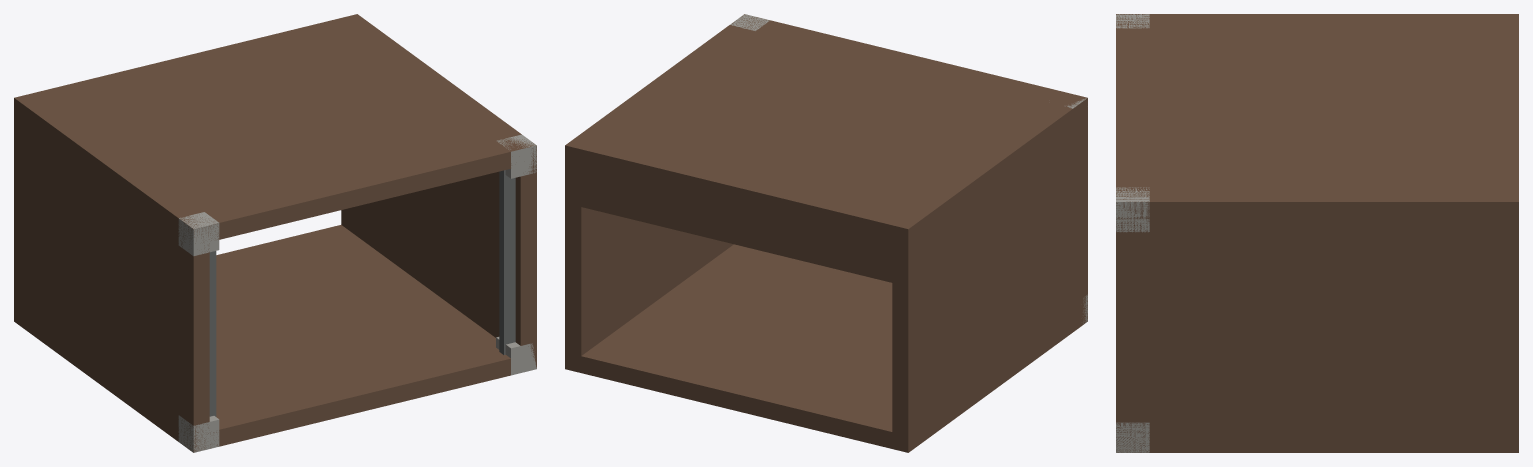
File: rack-case-6u.glb
The picture shows the model from 3 angles, left to right: view 1: azimuth 30°, elevation 25°; view 2: azimuth 150°, elevation 25°; view 3: azimuth 270°, elevation 25°; orthographic projection. The views are drawn at different scales.
Visible parts, largest first — view 1: wood, brushed, metal; view 2: wood, brushed; view 3: wood, brushed.
Part boxes in pixels (x1,y1,x2,y2): wood: (14,14,536,452); brushed: (178,134,536,452); metal: (209,170,515,416); wood: (565,14,1087,452); brushed: (730,14,1087,324); wood: (1116,14,1518,452); brushed: (1116,14,1149,452).
Bounding box in the file's own units: 0.53 × 0.33 × 0.48.
